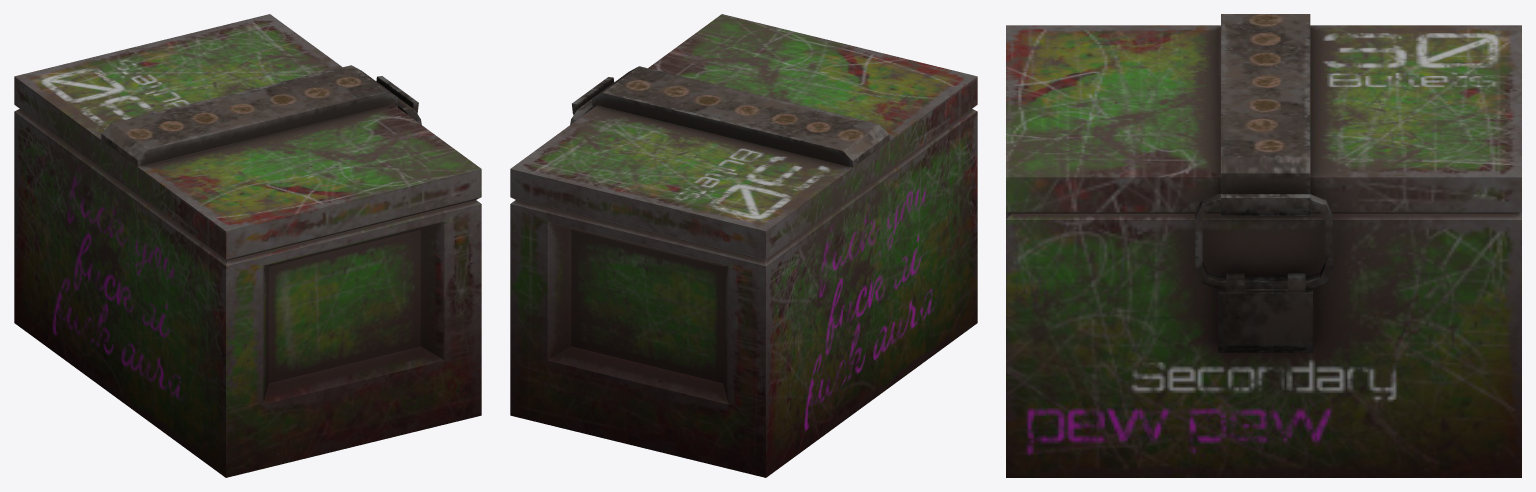
File: SecondaryBox.FBX
3 renders of one model, left to right at view 1: azimuth 30°, elevation 25°; view 2: azimuth 150°, elevation 25°; view 3: azimuth 270°, elevation 25°, orthographic. The views are drawn at different scales.
Parts seen in each view (by area): view 1: SecondaryBox; view 2: SecondaryBox; view 3: SecondaryBox.
Part boxes in pixels (box(x1,y1,x2,y2)): SecondaryBox: box(14, 14, 481, 477); SecondaryBox: box(510, 14, 977, 477); SecondaryBox: box(1006, 14, 1521, 477).
Bounding box in the file's own units: 12.96 × 11.49 × 16.89.
